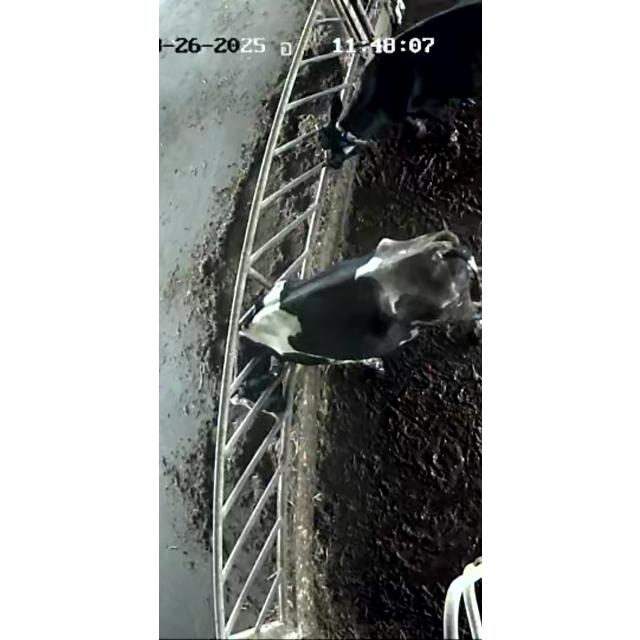eat: (176, 272, 338, 428), (235, 88, 385, 186)
